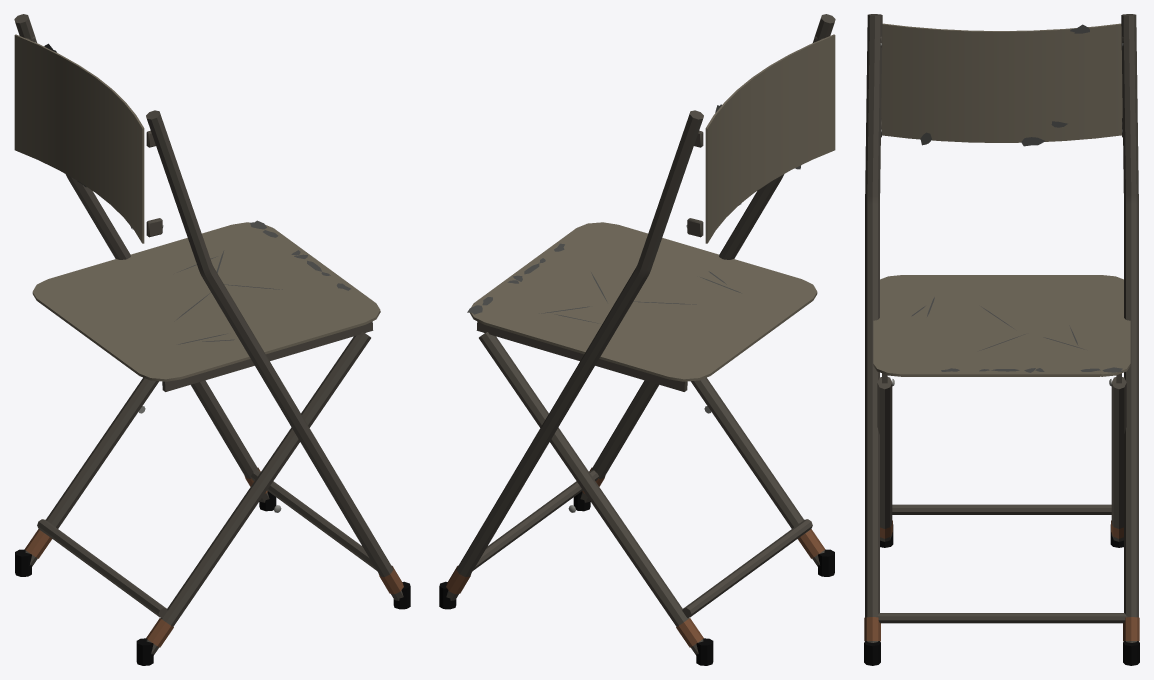
File: folding_chair.glb
3 views of the same model, side by side, from view 1: azimuth 30°, elevation 25°; view 2: azimuth 150°, elevation 25°; view 3: azimuth 270°, elevation 25° (orthographic). The views are drawn at different scales.
Visible parts, largest first — view 1: klappstuhl4, klappstuhl0, klappstuhl1, klappstuhl2, klappstuhl5; view 2: klappstuhl4, klappstuhl0, klappstuhl1, klappstuhl2, klappstuhl5; view 3: klappstuhl4, klappstuhl0, klappstuhl5, klappstuhl2, klappstuhl1.
Part boxes in pixels (box(x1,y1,x2,y2)): klappstuhl4: box(14, 34, 380, 381); klappstuhl0: box(14, 14, 403, 655); klappstuhl1: box(15, 491, 410, 665); klappstuhl2: box(24, 467, 403, 647); klappstuhl5: box(44, 43, 351, 344); klappstuhl4: box(470, 34, 835, 381); klappstuhl0: box(446, 14, 835, 655); klappstuhl1: box(439, 491, 834, 665); klappstuhl2: box(446, 467, 825, 647); klappstuhl5: box(467, 104, 800, 323); klappstuhl4: box(873, 23, 1130, 376); klappstuhl0: box(865, 14, 1138, 642); klappstuhl5: box(911, 24, 1122, 372); klappstuhl2: box(864, 520, 1139, 641); klappstuhl1: box(864, 524, 1139, 665).
Bounding box in the file's own units: 0.435 × 0.8634 × 0.405.
